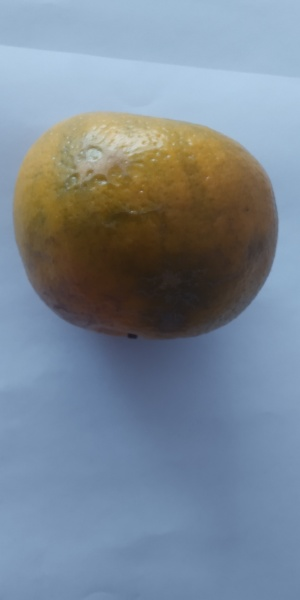BAD: (15, 109, 280, 346)
